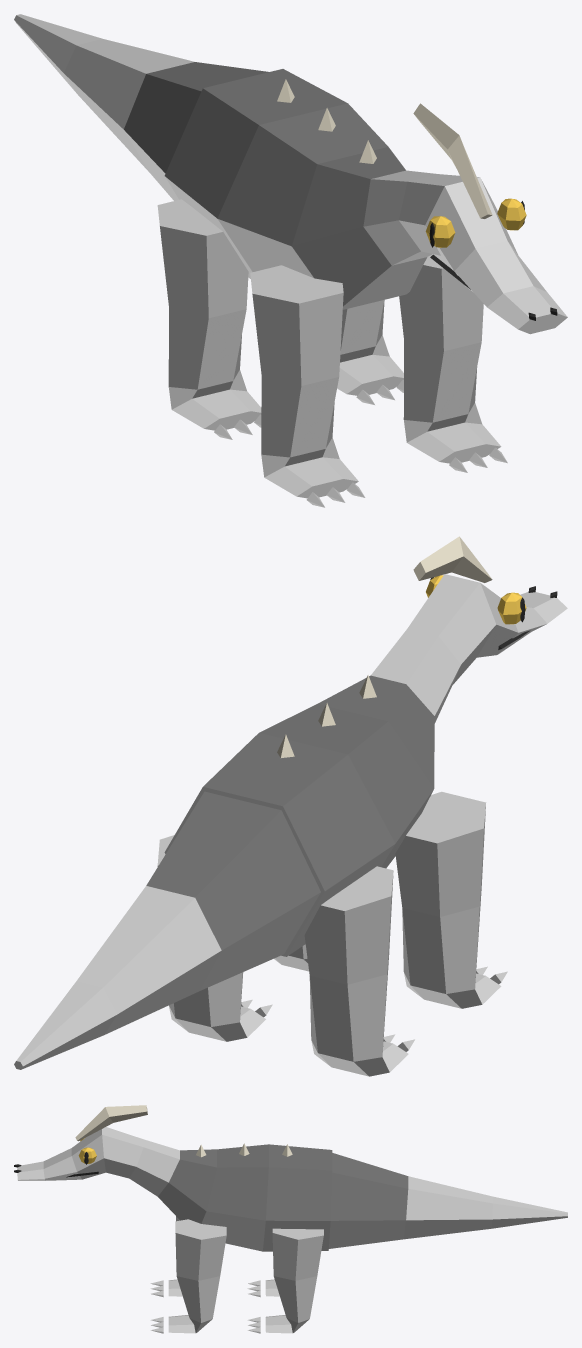
The model's file is duckbill.fbx.
3 renders of one model, top to bottom at view 1: azimuth 30°, elevation 25°; view 2: azimuth 150°, elevation 25°; view 3: azimuth 270°, elevation 25°, orthographic. The views are drawn at different scales.
Visible parts, largest first — view 1: duckbill_Body, duckbill_LegFR, duckbill_LegBR, duckbill_Tail, duckbill_LegFL, duckbill_LegBL, duckbill_Accent, duckbill_Eyes; view 2: duckbill_Body, duckbill_Tail, duckbill_LegFR, duckbill_LegBR, duckbill_LegBL, duckbill_Accent, duckbill_Eyes; view 3: duckbill_Body, duckbill_Tail, duckbill_LegFL, duckbill_LegBL, duckbill_Accent, duckbill_LegFR, duckbill_LegBR.
Part boxes in pixels (x1=…): duckbill_Body: x1=164, y1=69, x2=567, y2=334; duckbill_LegFR: x1=250, y1=265, x2=365, y2=507; duckbill_LegBR: x1=157, y1=199, x2=261, y2=439; duckbill_Tail: x1=14, y1=14, x2=268, y2=200; duckbill_LegFL: x1=399, y1=254, x2=507, y2=472; duckbill_LegBL: x1=337, y1=300, x2=403, y2=404; duckbill_Accent: x1=277, y1=79, x2=492, y2=218; duckbill_Eyes: x1=425, y1=198, x2=526, y2=247; duckbill_Body: x1=164, y1=574, x2=567, y2=956; duckbill_Tail: x1=14, y1=791, x2=320, y2=1069; duckbill_LegFR: x1=395, y1=791, x2=507, y2=1008; duckbill_LegBR: x1=304, y1=866, x2=414, y2=1076; duckbill_LegBL: x1=157, y1=835, x2=272, y2=1041; duckbill_Accent: x1=277, y1=536, x2=492, y2=757; duckbill_Eyes: x1=426, y1=575, x2=526, y2=624; duckbill_Body: x1=17, y1=1127, x2=332, y2=1251; duckbill_Tail: x1=329, y1=1153, x2=567, y2=1248; duckbill_LegFL: x1=150, y1=1219, x2=226, y2=1333; duckbill_LegBL: x1=247, y1=1228, x2=323, y2=1333; duckbill_Accent: x1=75, y1=1105, x2=292, y2=1157; duckbill_LegFR: x1=150, y1=1216, x2=182, y2=1297; duckbill_LegBR: x1=247, y1=1279, x2=279, y2=1297.
Bounding box in the file's own units: 2.6 × 4.2 × 10.27.
